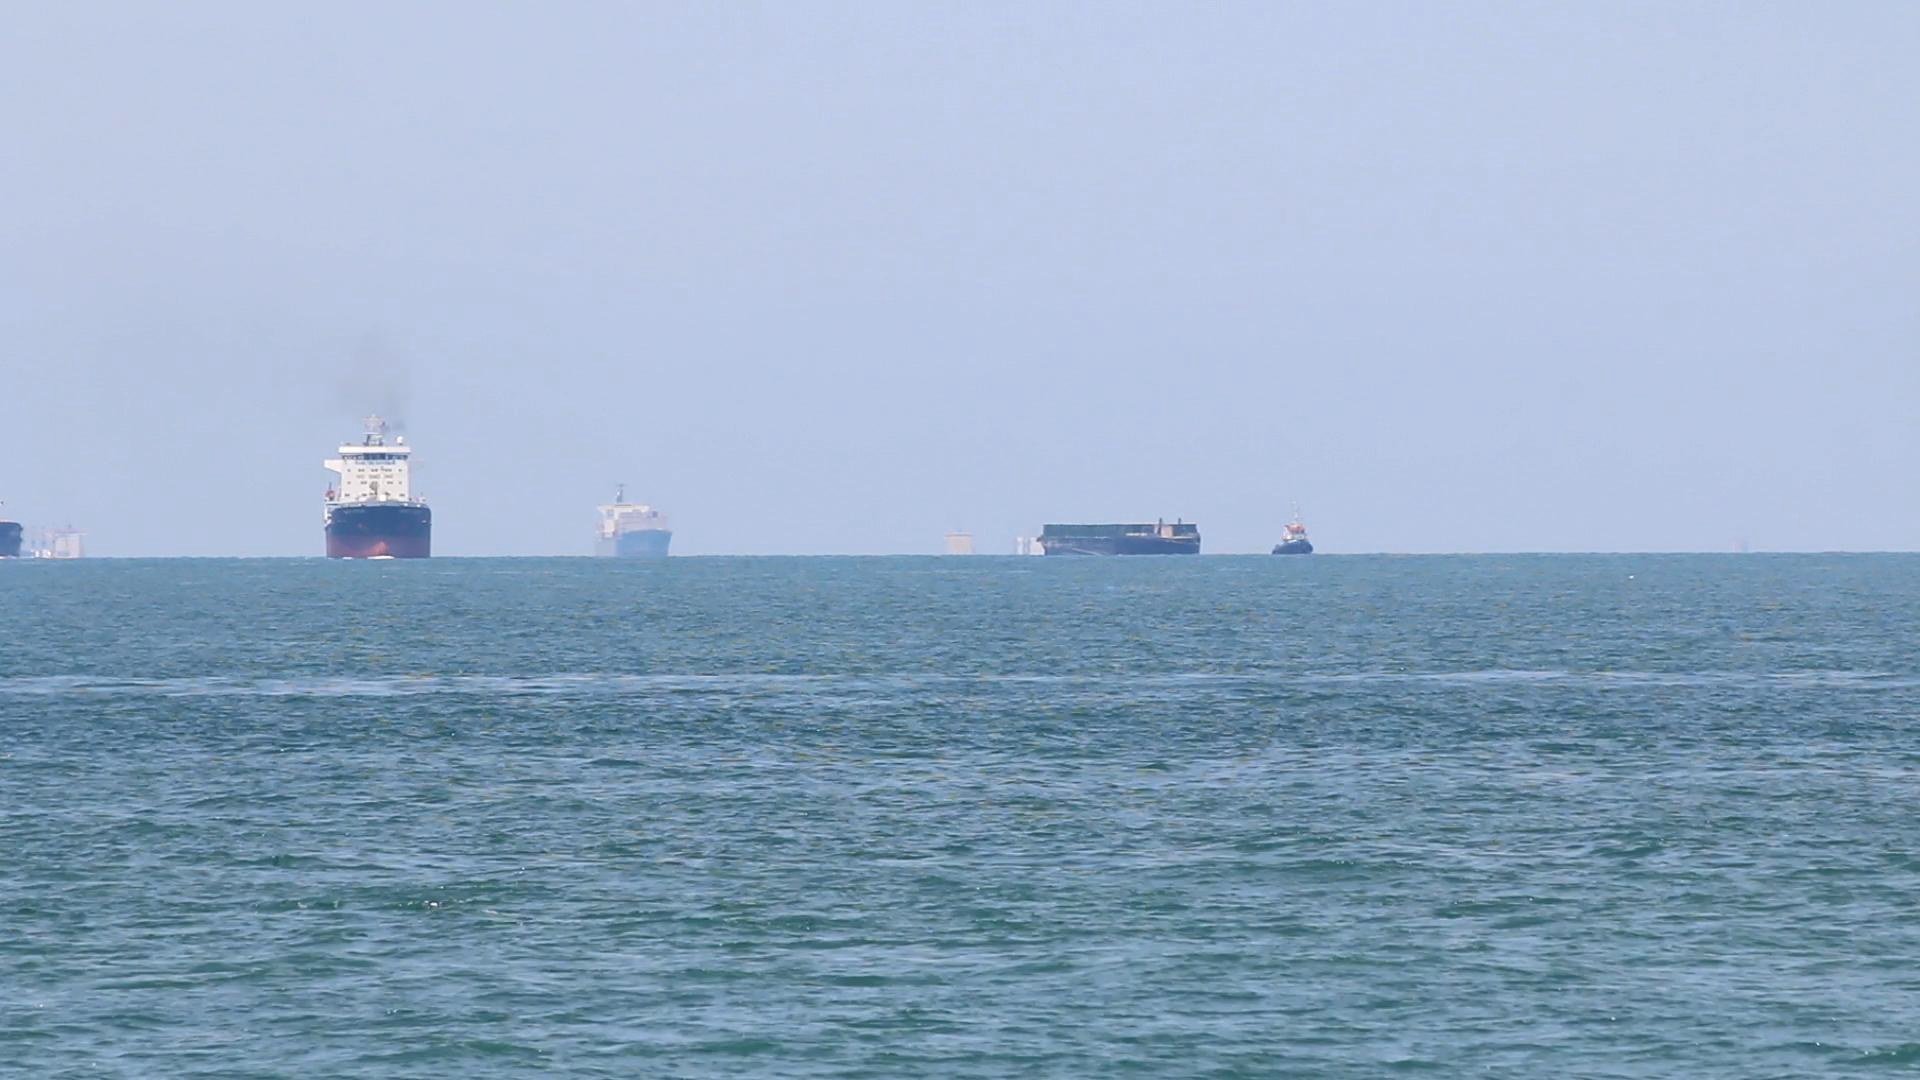Container Ship: (315, 400, 438, 563), (1023, 512, 1212, 563), (582, 471, 680, 563), (1262, 496, 1319, 560)
